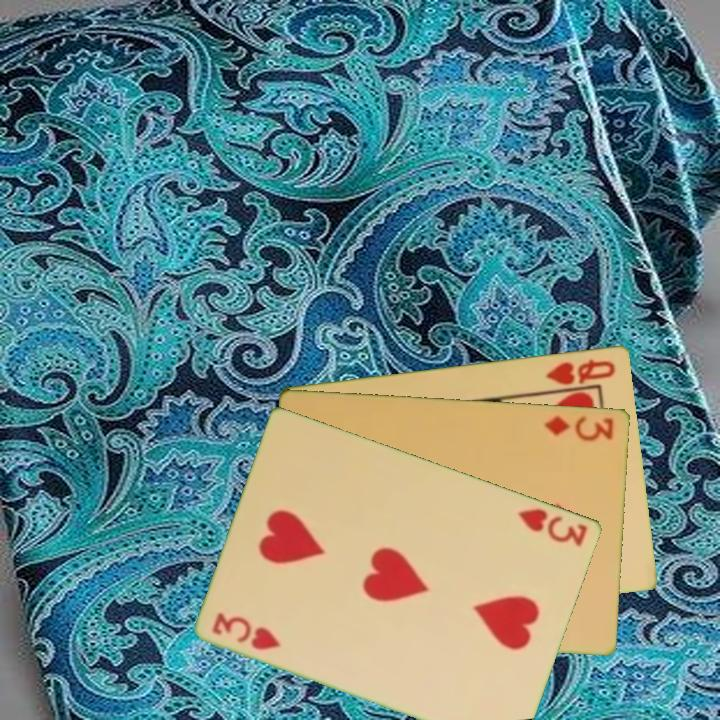3d: (541, 411, 617, 444)
3h: (515, 504, 591, 549), (209, 608, 285, 653)
Qh: (542, 355, 619, 388)
